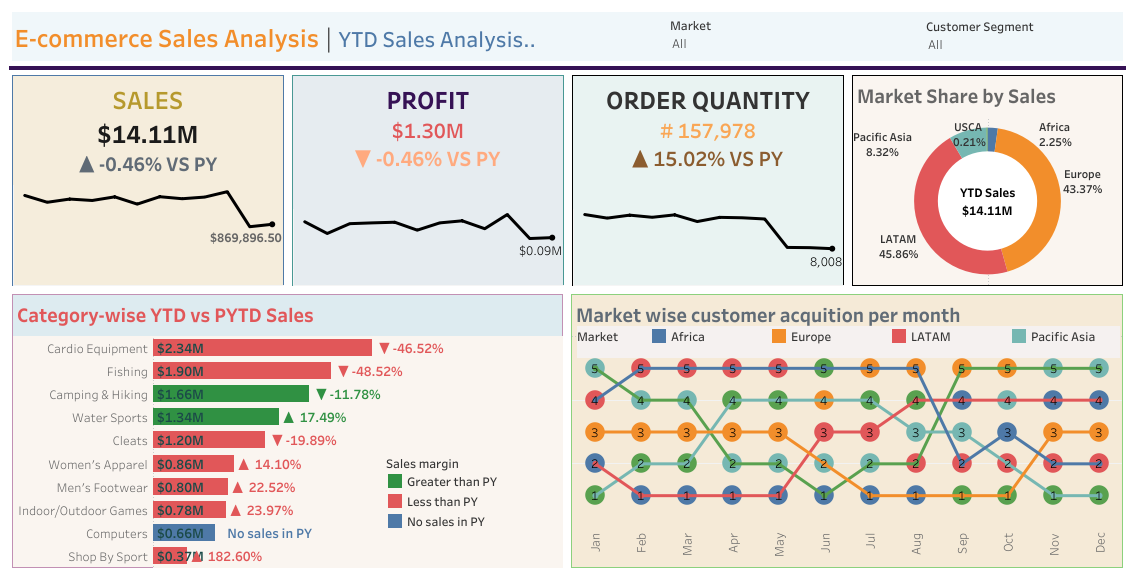

The dashboard page shown, as its layout file describes it:
{"tool":"tableau","page":{"name":"E-Commerce Sales Analysis | YTD Sales","canvas":[1135,580],"ordinal":0},"visuals":[{"type":"title","box":[8,8,1119,57]},{"type":"filter","title":"Sales KPI","param":"[federated.1y634cy1hl06281cq93ti0rkra1p].[none:Market:nk]","box":[670,15,168,45]},{"type":"filter","title":"Sales KPI","param":"[federated.1y634cy1hl06281cq93ti0rkra1p].[none:Customer Segment:nk]","box":[926,16,168,40]},{"type":"blank","box":[8,65,1119,6]},{"type":"worksheet","title":"Sales KPI","mark":"Automatic","rows":["Sales"],"cols":["Order Date"],"box":[8,71,280,219]},{"type":"worksheet","title":"Profit KPI ","mark":"Automatic","rows":["Profit Per Order"],"cols":["Order Date"],"box":[288,71,280,219]},{"type":"worksheet","title":"Order Quantity KPI ","mark":"Automatic","rows":["Order Quantity"],"cols":["Order Date"],"box":[568,71,280,219]},{"type":"worksheet","title":"Market Share by Sales","mark":"Pie","cols":["Calculation_1192890995540979734","Calculation_1192890995540926483"],"box":[848,71,279,219]},{"type":"worksheet","title":"Category-wise YTD vs PYTD Sales","mark":"Bar","rows":["Category Name"],"cols":["Calculation_1192890995542355991","Calculation_1192890995542355991"],"box":[8,290,559.5,282]},{"type":"worksheet","title":"Market wise customer acquition per month","mark":"Automatic","cols":["Order Date"],"box":[567.5,290,559.5,282]},{"type":"legend","title":"Market wise customer acquition per month","param":"[federated.1y634cy1hl06281cq93ti0rkra1p].[none:Market:nk]","box":[577,326,543,32]},{"type":"legend","title":"Category-wise YTD vs PYTD Sales","param":"[federated.1y634cy1hl06281cq93ti0rkra1p].[usr:Calculation_1192890995691958298:nk","box":[385,452,140,78]}]}

Visuals, with their boxes in screenshot pixels (x1, y1, x2, y2), scaled from the page's 1135x580 canvas onto the 1134x579 screenshot:
title: 8,8,1126,65
"Sales KPI" filter: 669,15,837,60
"Sales KPI" filter: 925,16,1093,56
blank: 8,65,1126,71
"Sales KPI" worksheet: 8,71,288,290
"Profit KPI " worksheet: 288,71,567,290
"Order Quantity KPI " worksheet: 567,71,847,290
"Market Share by Sales" worksheet (Pie marks): 847,71,1126,290
"Category-wise YTD vs PYTD Sales" worksheet (Bar marks): 8,290,567,571
"Market wise customer acquition per month" worksheet: 567,290,1126,571
"Market wise customer acquition per month" legend: 576,325,1119,357
"Category-wise YTD vs PYTD Sales" legend: 385,451,525,529
